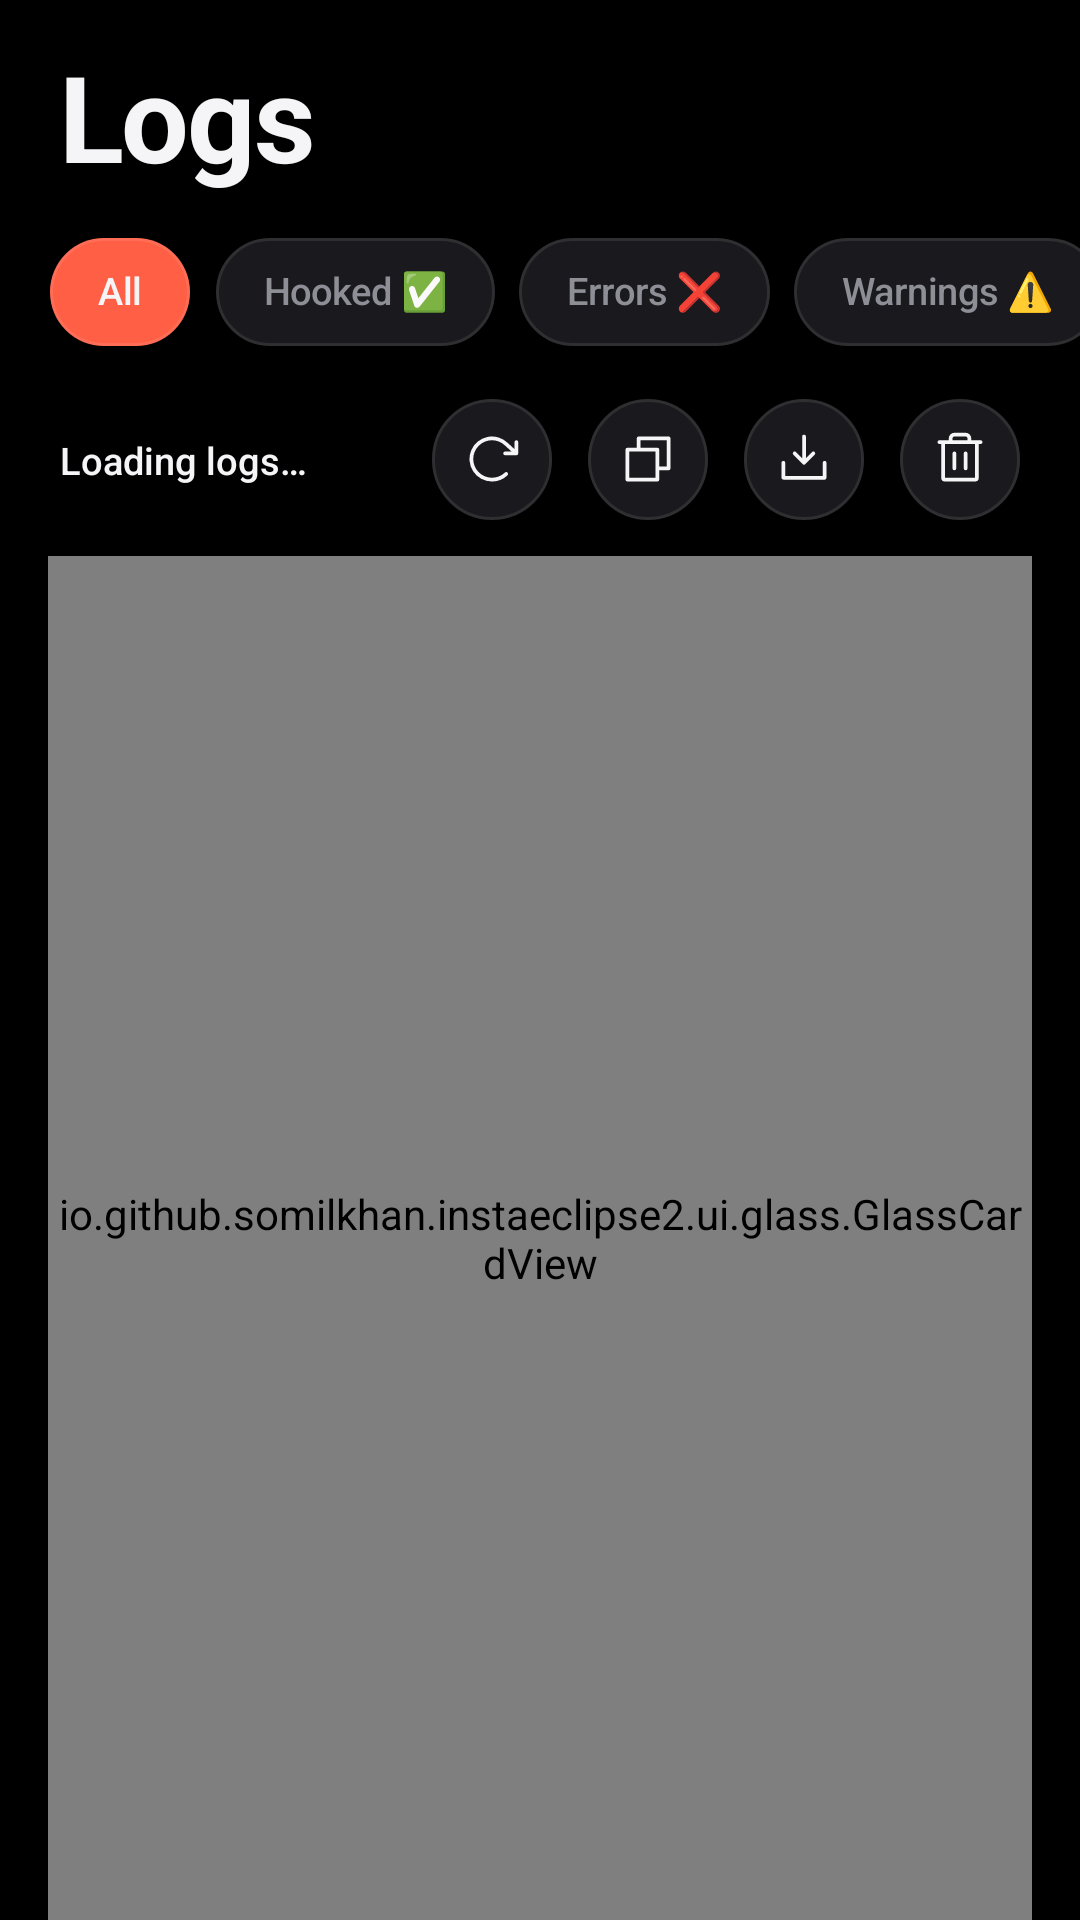

Icons on this 1080px x 1920px Android screen, each with its box as (x1, y1, x2, y2):
Clear: (900, 399, 1020, 520)
Copy: (588, 399, 708, 520)
Refresh: (432, 399, 552, 520)
Save to storage: (744, 399, 864, 520)
